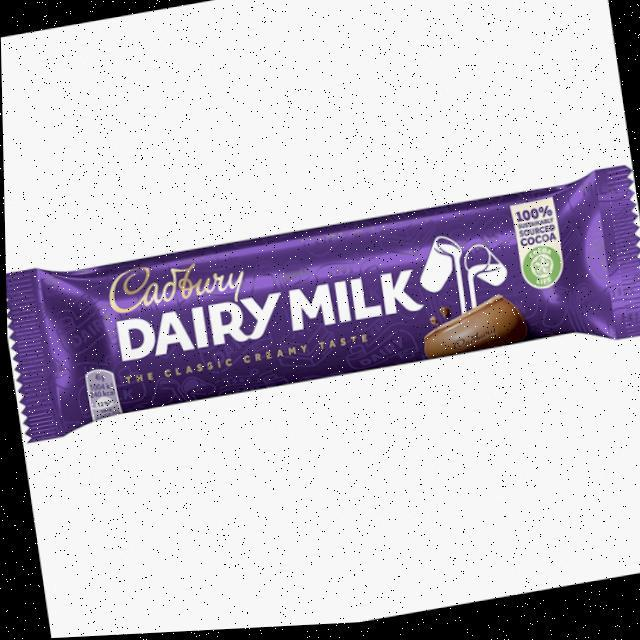cadbury_chocolate: (10, 182, 620, 436)
